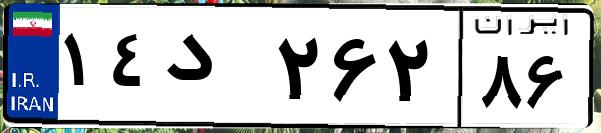1: (57, 26, 110, 100)
2: (270, 28, 330, 110), (385, 28, 445, 110)
4: (110, 28, 158, 98)
6: (330, 28, 385, 110), (525, 38, 570, 115)
8: (475, 38, 525, 113)
د: (158, 20, 270, 120)
